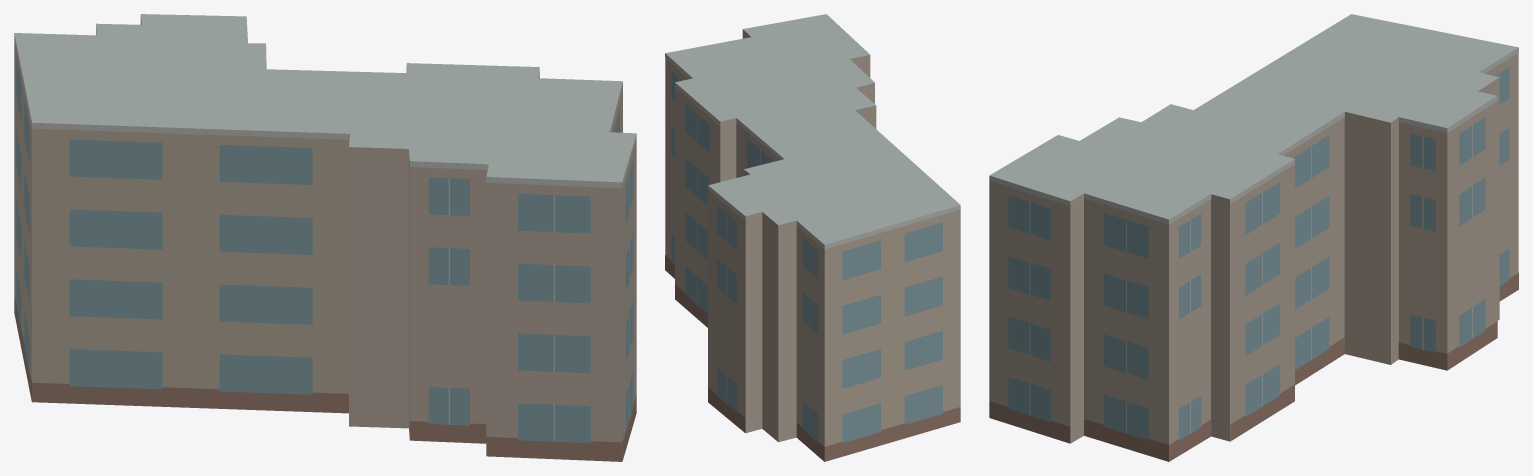
Rendered from survey-upis-32526226.glb.
3 renders of one model, left to right at view 1: azimuth 30°, elevation 25°; view 2: azimuth 150°, elevation 25°; view 3: azimuth 270°, elevation 25°, orthographic. The views are drawn at different scales.
Visible parts, largest first — view 1: survey-upis-32526226.tmp; view 2: survey-upis-32526226.tmp; view 3: survey-upis-32526226.tmp.
Boxes of the visible parts, x1,y1,x2,y2 form: survey-upis-32526226.tmp: (14,14,636,461); survey-upis-32526226.tmp: (665,14,960,461); survey-upis-32526226.tmp: (989,14,1518,461).
Bounding box in the file's own units: 21.11 × 11.6 × 22.98.
